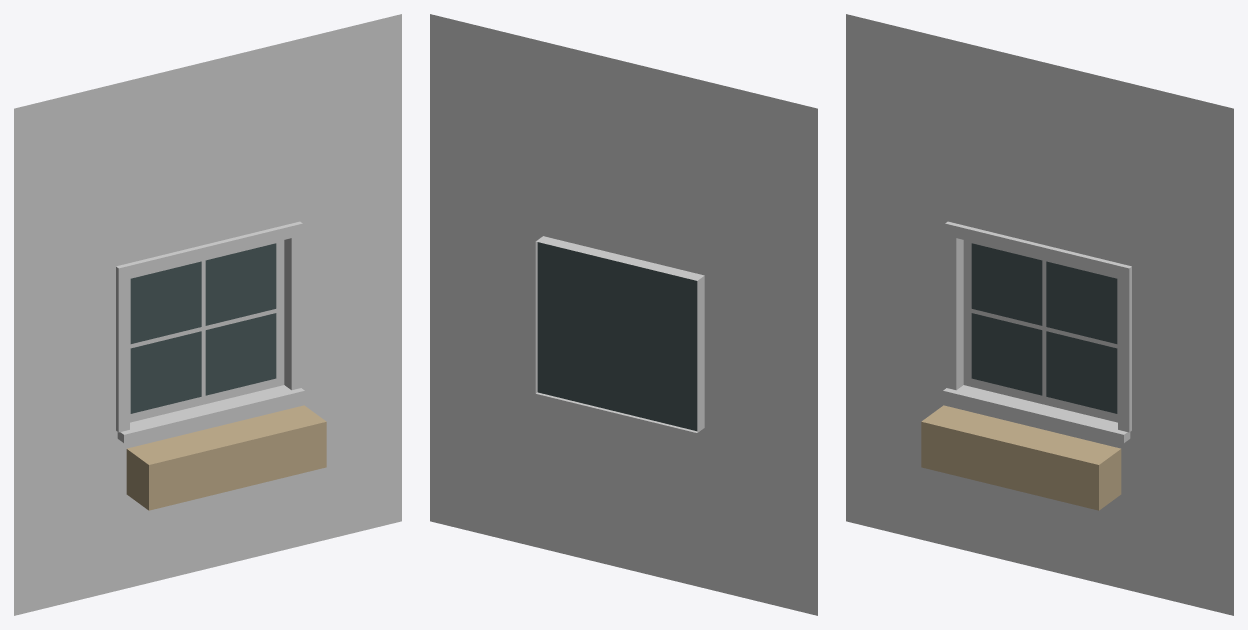
The model's file is top-w1.fbx.
3 renders of one model, left to right at view 1: azimuth 30°, elevation 25°; view 2: azimuth 150°, elevation 25°; view 3: azimuth 330°, elevation 25°, orthographic.
Parts seen in each view (by area): view 1: a2015/200/top-w1; view 2: a2015/200/top-w1; view 3: a2015/200/top-w1.
Part boxes in pixels (x1=…): a2015/200/top-w1: x1=14, y1=14, x2=401, y2=615; a2015/200/top-w1: x1=430, y1=14, x2=817, y2=615; a2015/200/top-w1: x1=846, y1=14, x2=1233, y2=615.
Size of the model in its own units: 2.4 by 3 by 0.4.
